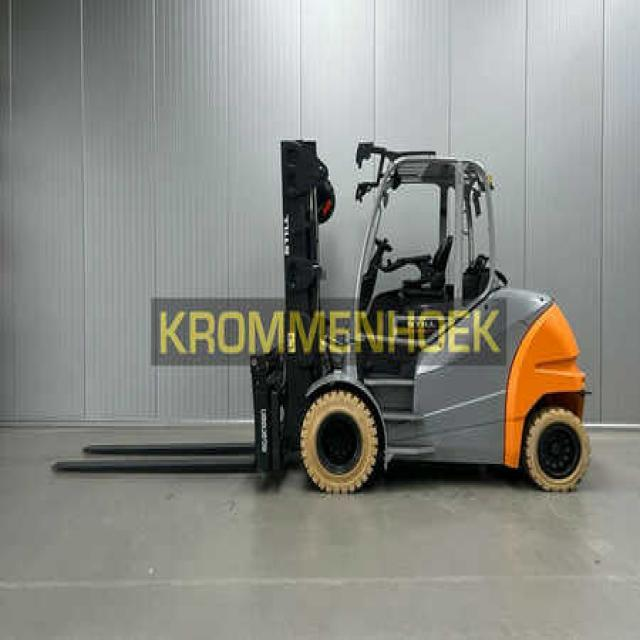forklift: (248, 117, 596, 502)
